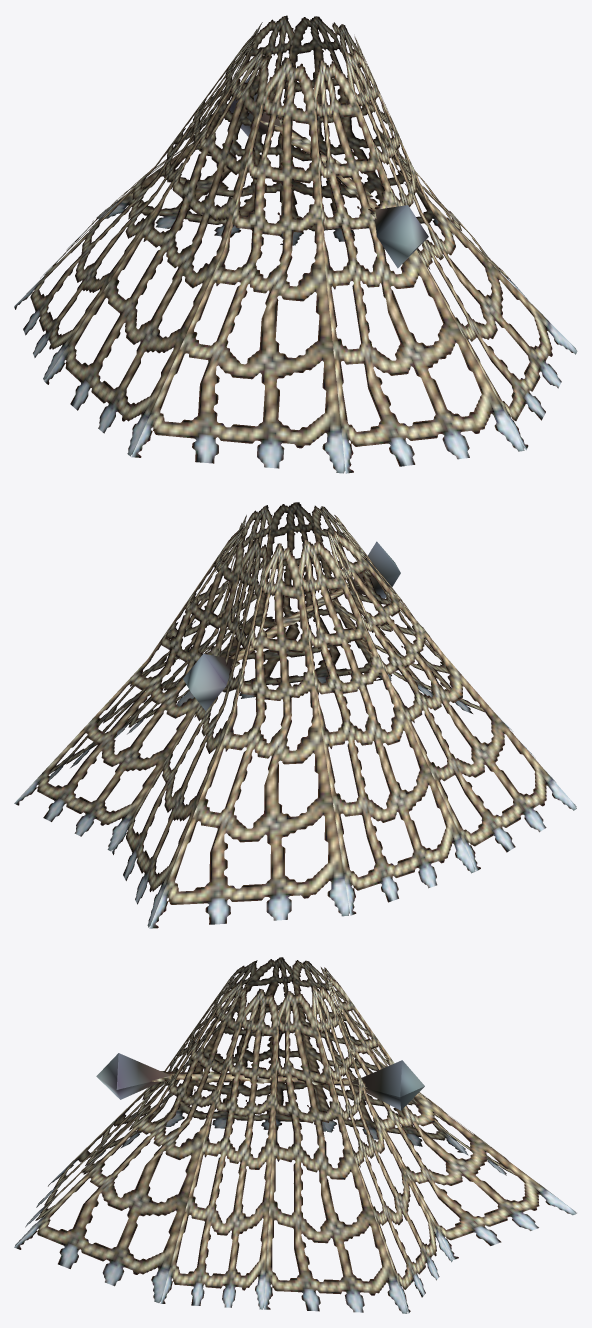
Rendered from wang2.fbx.
3 views of the same model, one above another, from view 1: azimuth 30°, elevation 25°; view 2: azimuth 150°, elevation 25°; view 3: azimuth 270°, elevation 25° (orthographic). The views are drawn at different scales.
Visible parts, largest first — view 1: ensnareTarget2, ensnareTarget1; view 2: ensnareTarget2, ensnareTarget1; view 3: ensnareTarget2, ensnareTarget1.
Boxes of the visible parts, x1,y1,x2,y2 form: ensnareTarget2: (14,15,577,473); ensnareTarget1: (229,75,428,268); ensnareTarget2: (14,502,576,928); ensnareTarget1: (183,541,400,710); ensnareTarget2: (14,957,576,1313); ensnareTarget1: (96,1053,424,1110).
Size of the model in its own units: 35.27 by 22.01 by 44.93.
